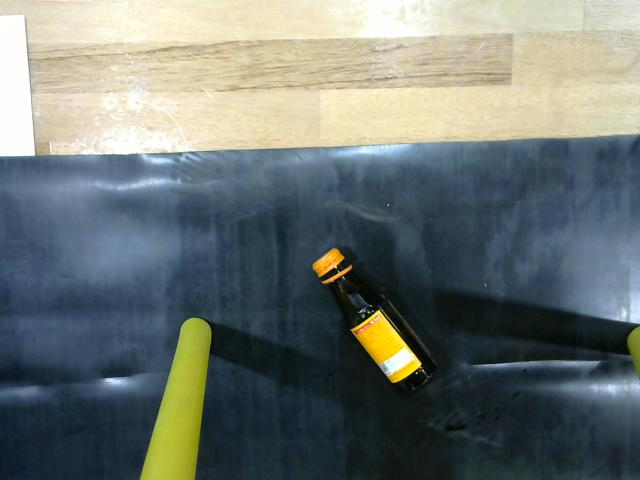glass: (302, 236, 459, 404)
